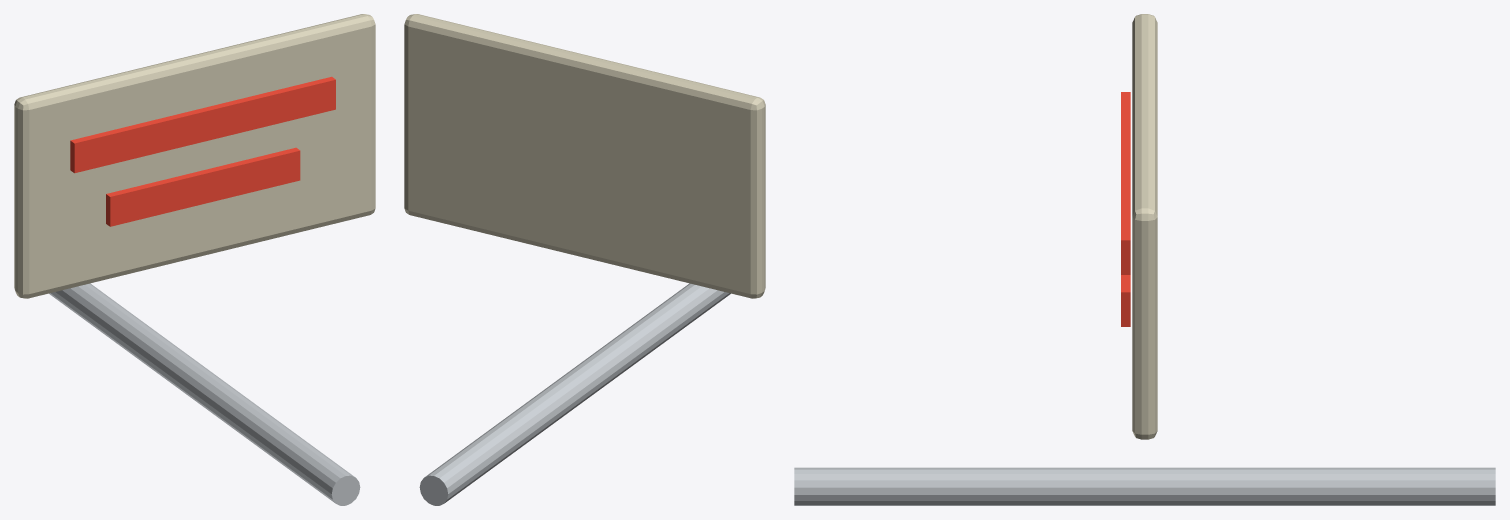
The model's file is sign.glb.
3 views of the same model, side by side, from view 1: azimuth 30°, elevation 25°; view 2: azimuth 150°, elevation 25°; view 3: azimuth 270°, elevation 25° (orthographic). The views are drawn at different scales.
Parts seen in each view (by area): view 1: Board, Pole, Bar1, Bar2; view 2: Board, Pole; view 3: Pole, Board, Bar1.
Part boxes in pixels (<box>): Board: <box>14,14,375,298</box>; Pole: <box>49,283,360,505</box>; Bar1: <box>70,76,335,173</box>; Bar2: <box>106,147,300,226</box>; Board: <box>404,14,765,298</box>; Pole: <box>419,283,730,505</box>; Pole: <box>794,467,1495,505</box>; Board: <box>1132,14,1157,439</box>; Bar1: <box>1121,92,1130,274</box>.
Size of the model in its own units: 1.5 by 1.36 by 2.2.
